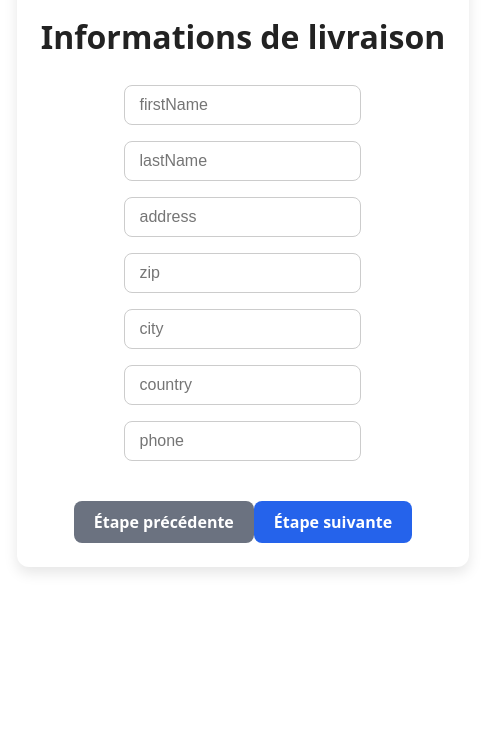
Test case: DeliveryPage › affiche les erreurs si formulaire invalide après soumission
This screenshot has width=487, height=730.
Step 1. Click the button "Étape suivante" → [333, 522], box [254, 500, 412, 542]
(page scrolled)
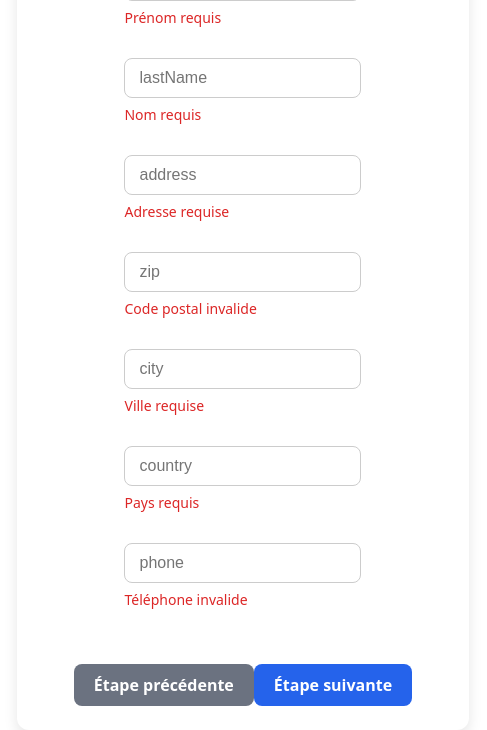
Result: the text "Prénom requis" is shown at [124, 8, 221, 26]
Result: the text "Nom requis" is shown at [124, 104, 201, 124]
Result: the text "Adresse requise" is shown at [124, 202, 229, 220]
